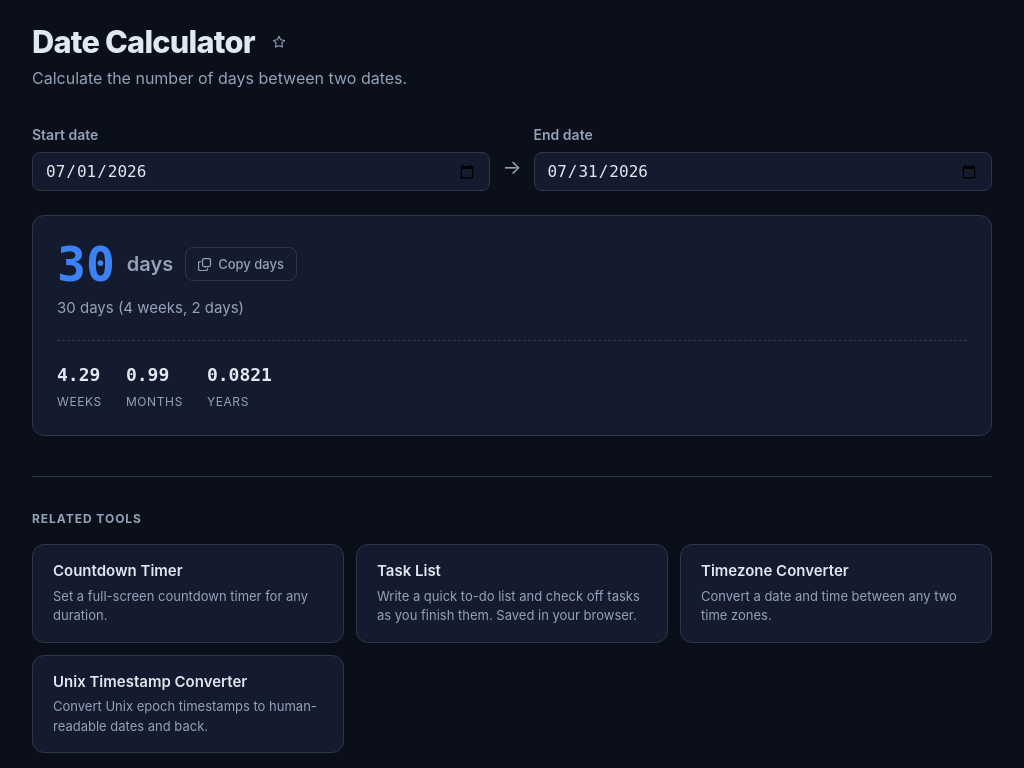
Test case: DateCalculator › shows correct days count for specific dates
Type "2024-01-01" into the date field labelled "Start date" at point(261, 172), box [32,152,490,191]
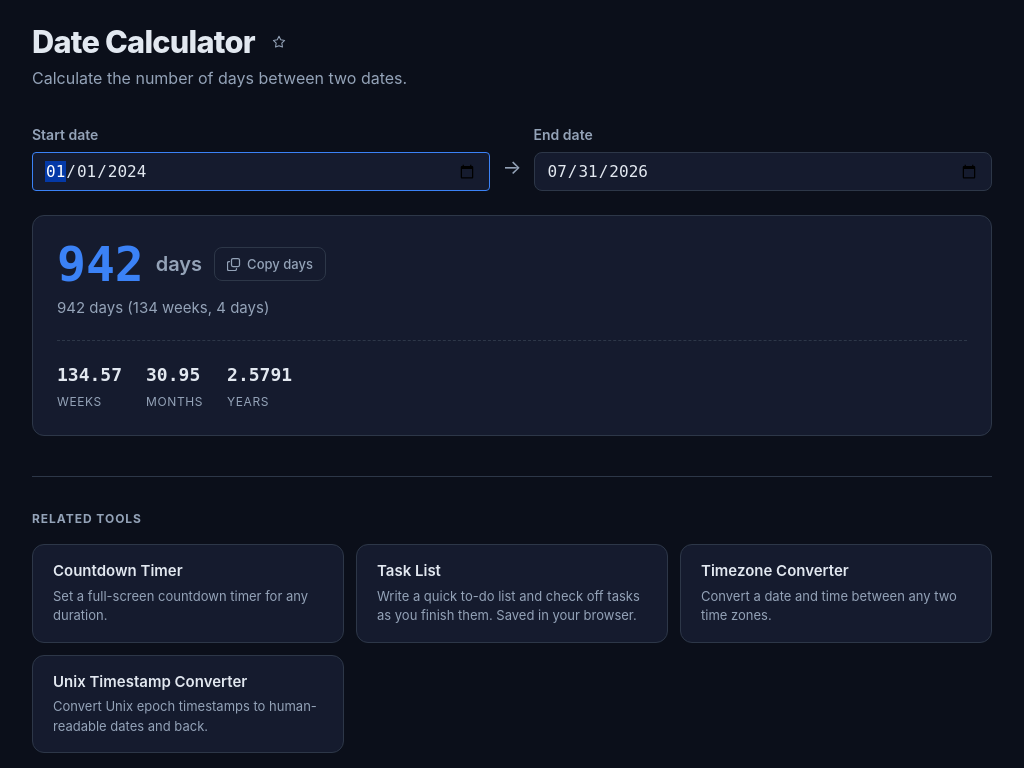
Type "2024-01-31" into the date field labelled "End date" at point(763, 172), box [534,152,992,191]
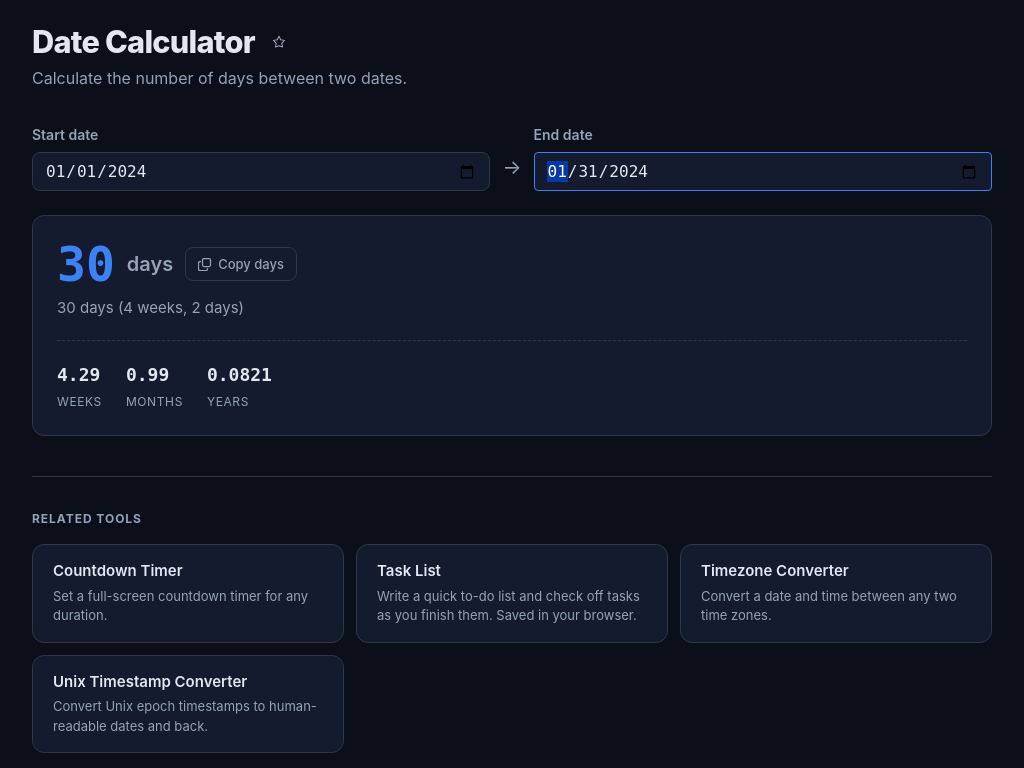
Now the text "30" is shown, box [57,240,115,288]
